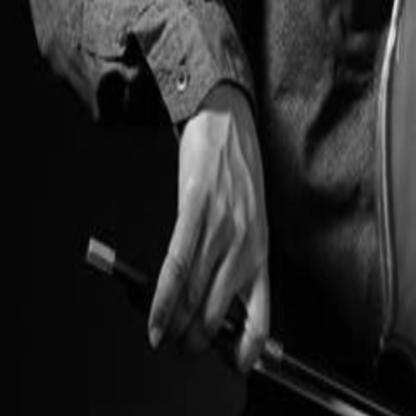bad: (136, 130, 278, 389)
